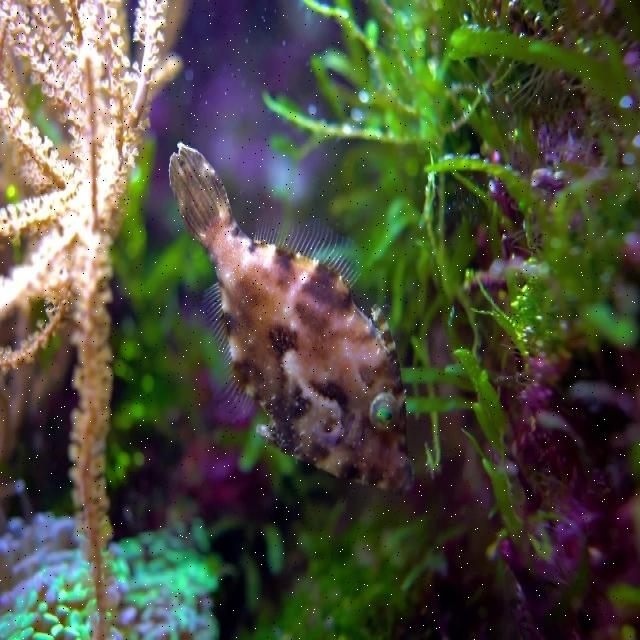fish: (164, 139, 416, 494)
